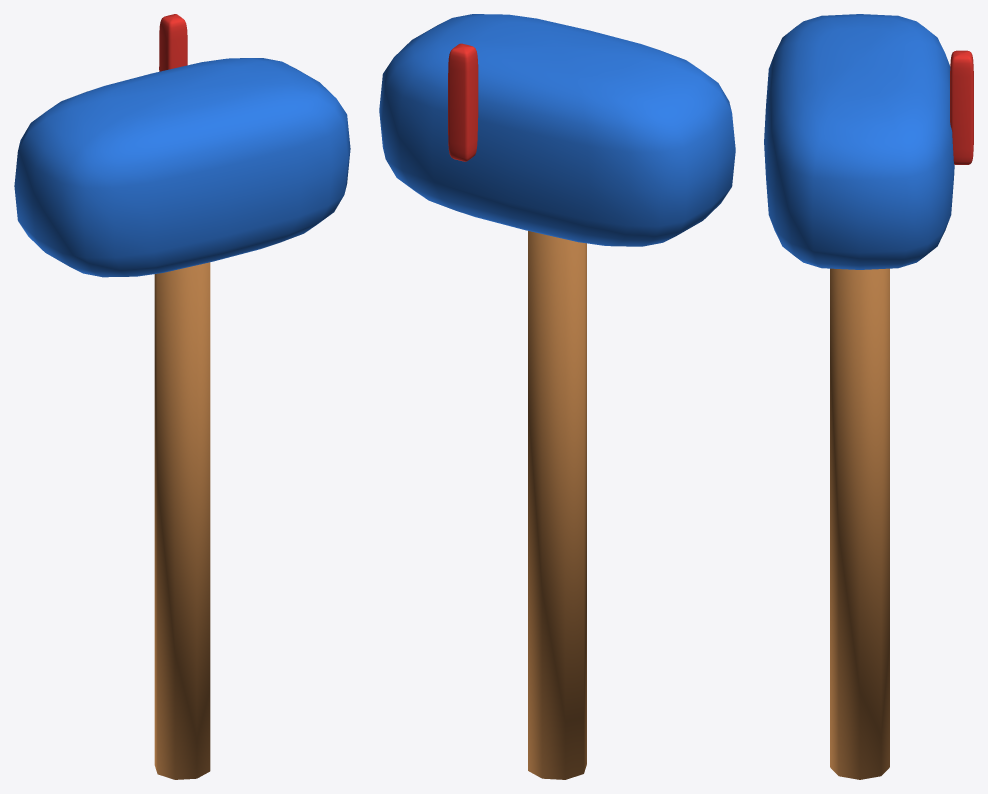
Rendered from mailbox.glb.
3 views of the same model, side by side, from view 1: azimuth 30°, elevation 25°; view 2: azimuth 150°, elevation 25°; view 3: azimuth 270°, elevation 25° (orthographic). The views are drawn at different scales.
Parts seen in each view (by area): view 1: Body; view 2: Body; view 3: Body.
Part boxes in pixels (left/top/right/bottom): Body: left=14, top=14, right=350, bottom=779; Body: left=379, top=14, right=735, bottom=779; Body: left=764, top=14, right=973, bottom=779.
Bounding box in the file's own units: 0.6 × 1.35 × 0.35.
